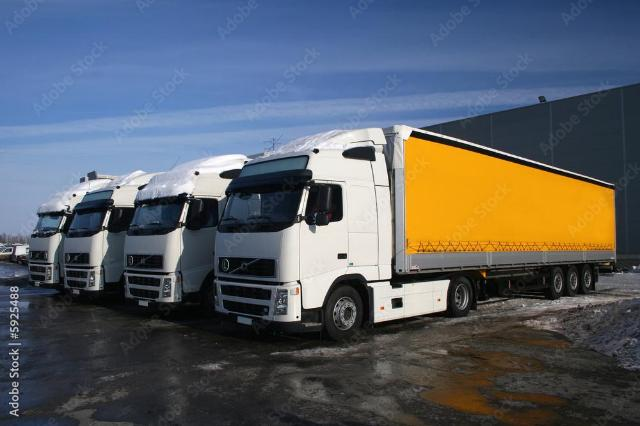truck: (214, 131, 620, 333)
